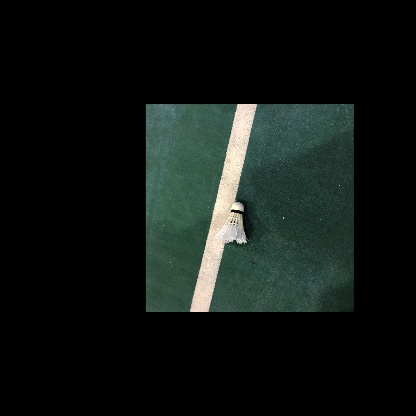ball_single: (215, 202, 247, 244)
